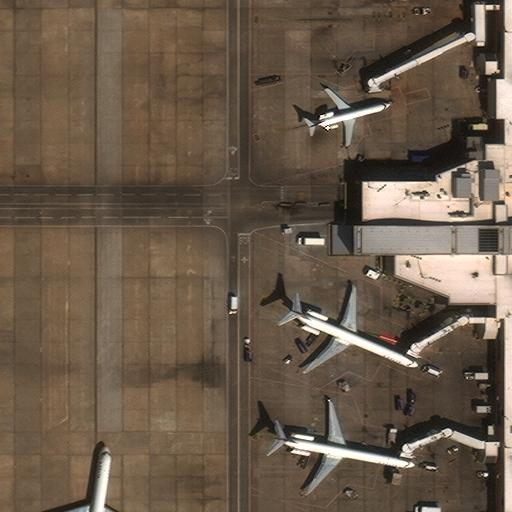Medium Civil Transport: (275, 402, 414, 494), (289, 288, 416, 373), (46, 446, 139, 512), (308, 86, 390, 144)
